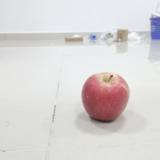apple: (81, 73, 130, 122)
